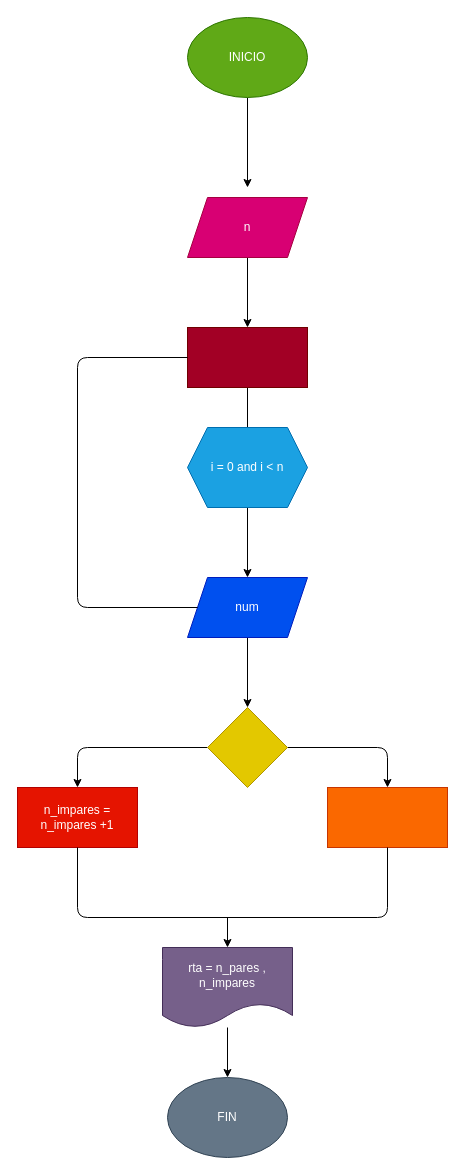
Some shapes in this 465 by 1175 pixel diagram are drawn without their labels. Each missing label, with the centre of its shape:
"n_pares = 0 n_impares = 0" belongs at (x=247, y=357).
"n_pares = n_pares +1" belongs at (x=387, y=817).
"num % 2==0" belongs at (x=247, y=747).
